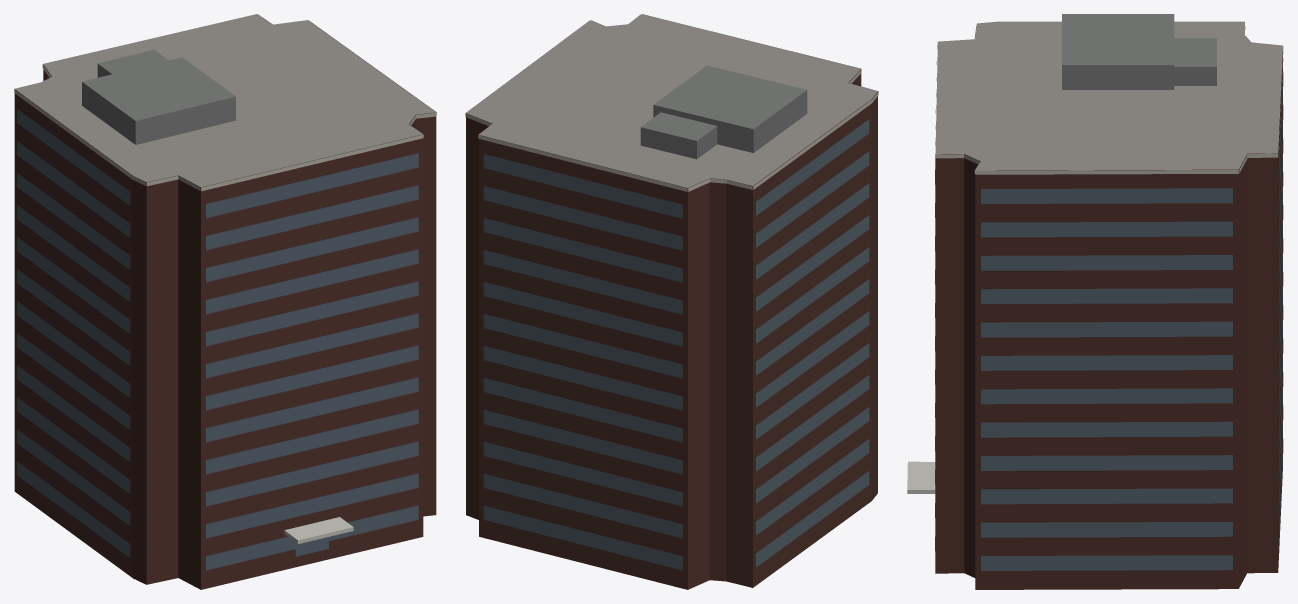
File: plaza-west-building.glb
The picture shows the model from 3 angles, left to right: view 1: azimuth 30°, elevation 25°; view 2: azimuth 150°, elevation 25°; view 3: azimuth 270°, elevation 25°; orthographic projection. The views are drawn at different scales.
Visible parts, largest first — view 1: plaza_west_building; view 2: plaza_west_building; view 3: plaza_west_building.
Part boxes in pixels (x1=…): plaza_west_building: x1=14, y1=14, x2=436, y2=589; plaza_west_building: x1=465, y1=14, x2=878, y2=589; plaza_west_building: x1=907, y1=14, x2=1283, y2=589.
Bounding box in the file's own units: 36.43 × 50.63 × 38.86.
